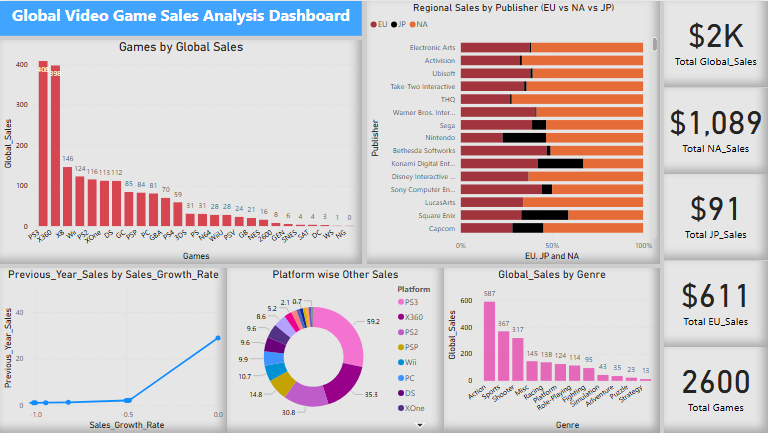

The page's visual inventory and layout, read from the dashboard file:
{"tool":"powerbi","page":{"name":"Page 1","canvas":[1280,720],"ordinal":0},"visuals":[{"type":"textbox","box":[0,0,603.3,58.3],"z":0},{"type":"card","fields":{"Values":["Sum(cleaned_vedio_games_sales.Global_Sales)"]},"box":[1107,0,173,142.8],"z":1},{"type":"card","fields":{"Values":["Min(cleaned_vedio_games_sales.Platform)"]},"box":[1107,577.2,173,142.8],"z":2},{"type":"card","fields":{"Values":["Sum(cleaned_vedio_games_sales.EU_Sales)"]},"box":[1107,433.4,173,142.8],"z":3},{"type":"card","fields":{"Values":["Sum(cleaned_vedio_games_sales.JP_Sales)"]},"box":[1107,288.9,173,142.8],"z":4},{"type":"card","fields":{"Values":["Sum(cleaned_vedio_games_sales.NA_Sales)"]},"box":[1107,144.5,173,142.8],"z":5},{"type":"clusteredColumnChart","title":"Games by Global Sales","fields":{"Category":["cleaned_vedio_games_sales.Platform"],"Y":["Sum(cleaned_vedio_games_sales.Global_Sales)"]},"box":[0,65,603.3,373.3],"z":6},{"type":"columnChart","title":"Global_Sales by Genre","fields":{"Category":["cleaned_vedio_games_sales.Genre"],"Y":["Sum(cleaned_vedio_games_sales.Global_Sales)"]},"box":[740,445,360,275],"z":7},{"type":"lineChart","fields":{"Category":["cleaned_vedio_games_sales.Sales_Growth_Rate"],"Y":["Sum(cleaned_vedio_games_sales.Previous_Year_Sales)"]},"box":[0,445,378.3,275],"z":8},{"type":"donutChart","title":"Platform wise Other Sales","fields":{"Y":["Sum(cleaned_vedio_games_sales.Other_Sales)"],"Category":["cleaned_vedio_games_sales.Platform"]},"box":[378.3,445,361.7,275],"z":9},{"type":"hundredPercentStackedBarChart","title":"Regional Sales by Publisher (EU vs NA vs JP)","fields":{"Y":["Sum(cleaned_vedio_games_sales.EU_Sales)","Sum(cleaned_vedio_games_sales.JP_Sales)","Sum(cleaned_vedio_games_sales.NA_Sales)"],"Category":["cleaned_vedio_games_sales.Publisher"]},"box":[611.7,0,488.3,438.3],"z":10}]}

Visuals, with their boxes in screenshot pixels (x1, y1, x2, y2), scaled from the page's 1280x720 canvas onto the 768x433 screenshot:
textbox: 0,0,362,35
card - Sum(cleaned_vedio_games_sales.Global_Sales): 664,0,767,86
card - Min(cleaned_vedio_games_sales.Platform): 664,347,767,432
card - Sum(cleaned_vedio_games_sales.EU_Sales): 664,261,767,347
card - Sum(cleaned_vedio_games_sales.JP_Sales): 664,174,767,260
card - Sum(cleaned_vedio_games_sales.NA_Sales): 664,87,767,173
"Games by Global Sales" clusteredColumnChart: 0,39,362,264
"Global_Sales by Genre" columnChart: 444,268,660,432
lineChart - cleaned_vedio_games_sales.Sales_Growth_Rate x Sum(cleaned_vedio_games_sales.Previous_Year_Sales): 0,268,227,432
"Platform wise Other Sales" donutChart: 227,268,444,432
"Regional Sales by Publisher (EU vs NA vs JP)" hundredPercentStackedBarChart: 367,0,660,264
